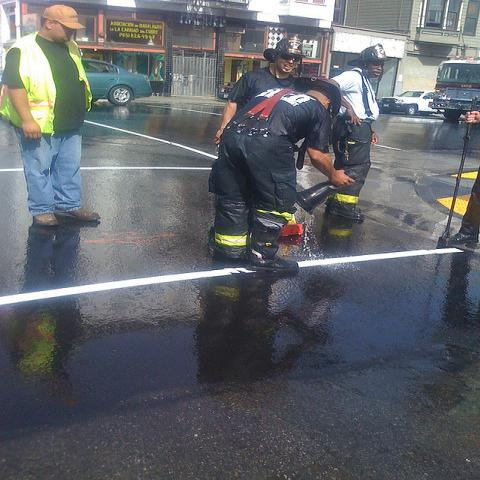car: (81, 58, 153, 106), (382, 91, 436, 112)
truck: (429, 53, 479, 123)
